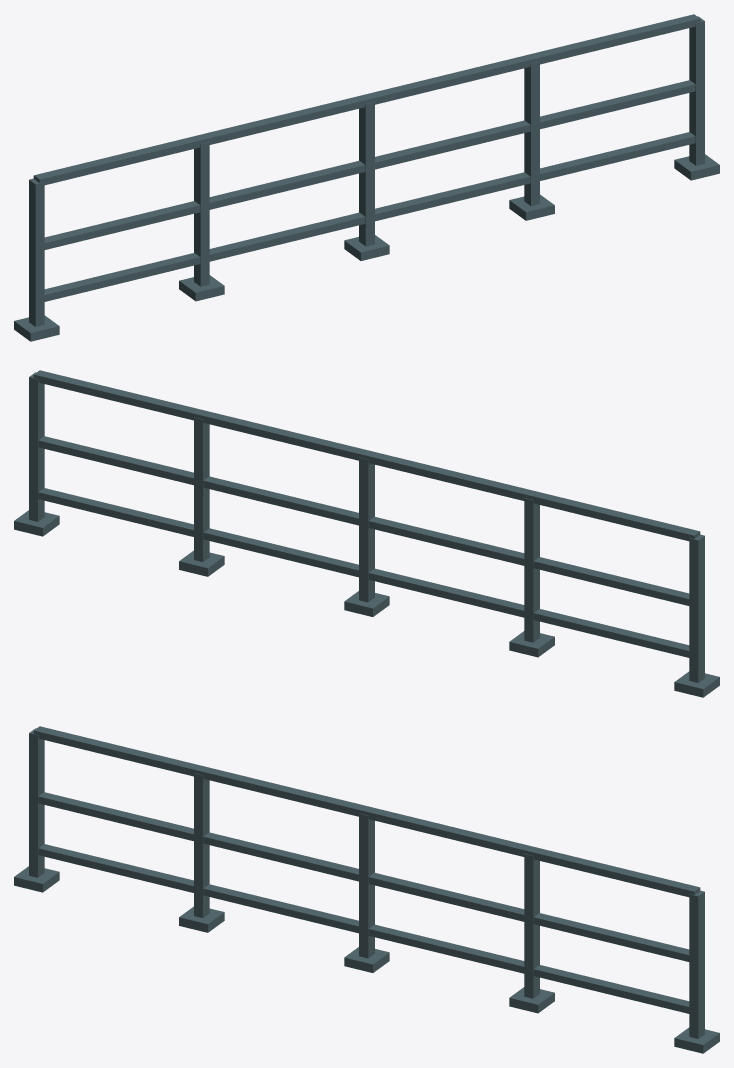
File: KOL_HBR_PROP_05.fbx
3 renders of one model, top to bottom at view 1: azimuth 30°, elevation 25°; view 2: azimuth 150°, elevation 25°; view 3: azimuth 330°, elevation 25°, orthographic.
Visible parts, largest first — view 1: KOL_HBR_PROP_05__Model__DarkSteel; view 2: KOL_HBR_PROP_05__Model__DarkSteel; view 3: KOL_HBR_PROP_05__Model__DarkSteel.
Boxes of the visible parts, x1=… form: KOL_HBR_PROP_05__Model__DarkSteel: x1=14, y1=14, x2=719, y2=341; KOL_HBR_PROP_05__Model__DarkSteel: x1=14, y1=370, x2=719, y2=697; KOL_HBR_PROP_05__Model__DarkSteel: x1=14, y1=726, x2=719, y2=1053.
Bounding box in the file's own units: 16.7 × 3.58 × 0.7.
